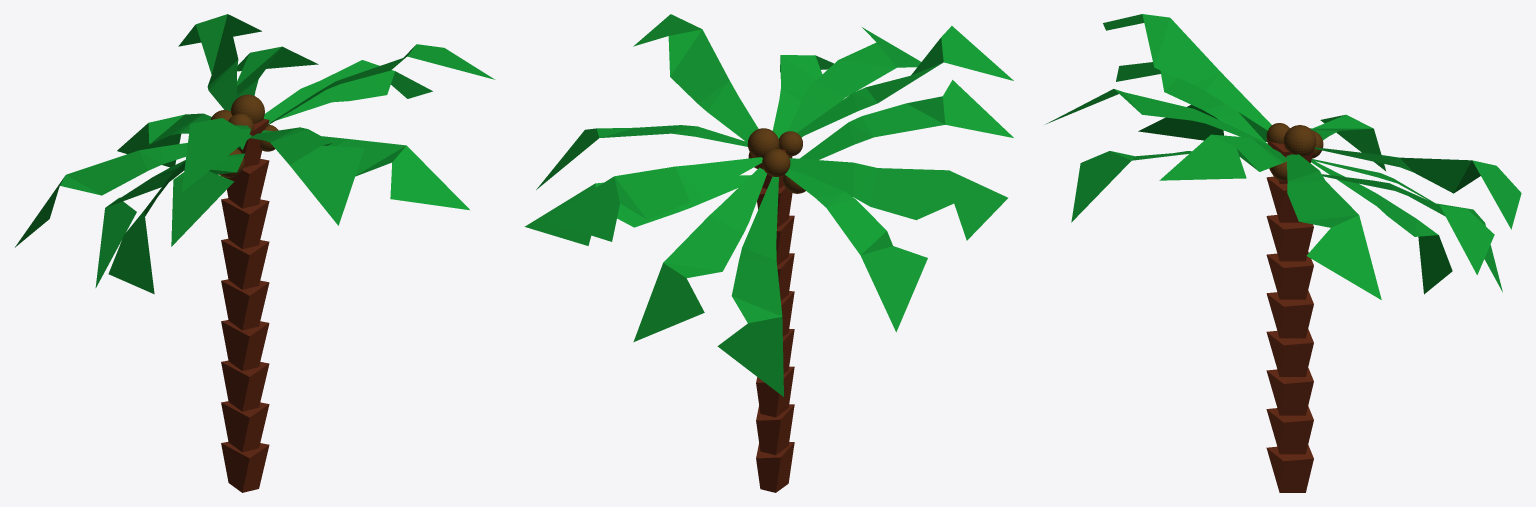
File: Palmö.fbx
3 renders of one model, left to right at view 1: azimuth 30°, elevation 25°; view 2: azimuth 150°, elevation 25°; view 3: azimuth 270°, elevation 25°, orthographic. The views are drawn at different scales.
Parts seen in each view (by area): view 1: Plane, Cube; view 2: Plane, Cube; view 3: Plane, Cube.
Part boxes in pixels (box(x1,y1,x2,y2)): Plane: box(15, 14, 495, 294); Cube: box(221, 118, 269, 492); Plane: box(524, 14, 1013, 396); Cube: box(756, 148, 794, 492); Plane: box(1045, 14, 1521, 299); Cube: box(1266, 139, 1313, 492).
Bounding box in the file's own units: 3307 × 3639 × 3682.
